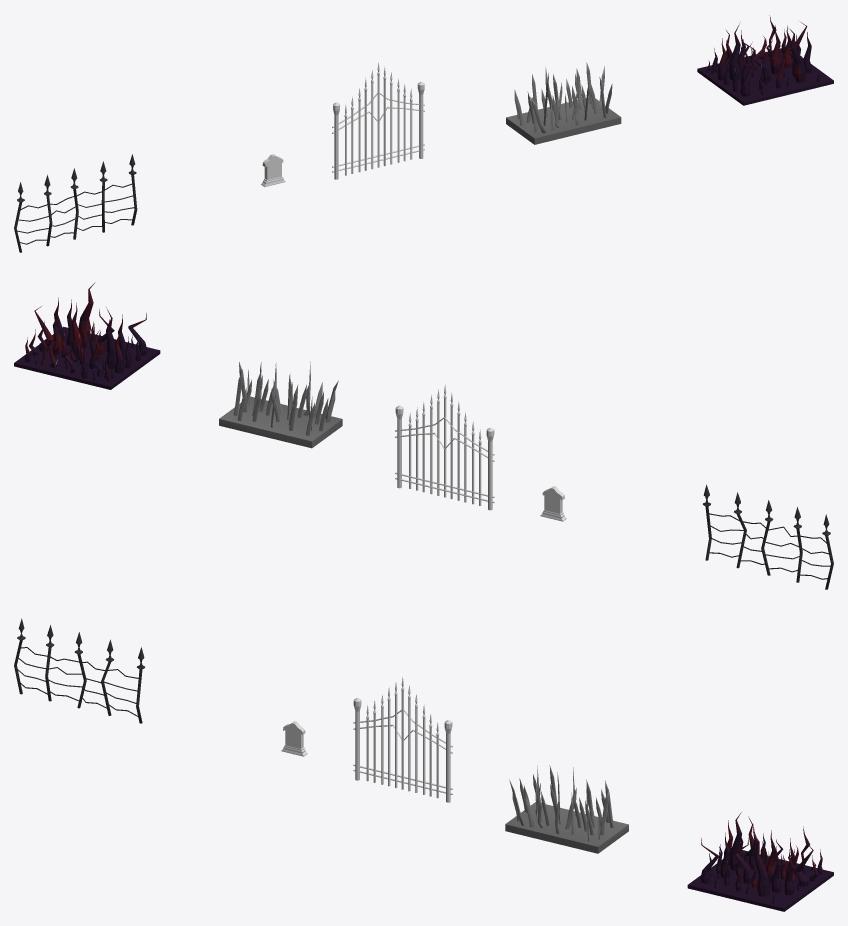
The model's file is GradesAssets.fbx.
3 renders of one model, top to bottom at view 1: azimuth 30°, elevation 25°; view 2: azimuth 150°, elevation 25°; view 3: azimuth 330°, elevation 25°, orthographic. The views are drawn at different scales.
Parts seen in each view (by area): view 1: EspinhosComum, EspadasEspinhos, PortaoForjado, Grades, Lapide; view 2: EspinhosComum, EspadasEspinhos, PortaoForjado, Grades, Lapide; view 3: EspinhosComum, EspadasEspinhos, PortaoForjado, Grades, Lapide.
Boxes of the visible parts, x1,y1,x2,y2 form: EspinhosComum: [697, 15, 833, 105]; EspadasEspinhos: [506, 62, 621, 144]; PortaoForjado: [332, 63, 424, 179]; Grades: [14, 154, 137, 252]; Lapide: [261, 154, 285, 187]; EspinhosComum: [14, 282, 160, 389]; EspadasEspinhos: [219, 361, 342, 448]; PortaoForjado: [395, 384, 494, 510]; Grades: [703, 484, 833, 589]; Lapide: [540, 486, 566, 521]; EspinhosComum: [687, 812, 833, 911]; EspadasEspinhos: [505, 765, 628, 853]; PortaoForjado: [353, 676, 452, 802]; Grades: [14, 618, 144, 723]; Lapide: [281, 721, 307, 756].
Bounding box in the file's own units: 13539 × 1797 × 1623.
